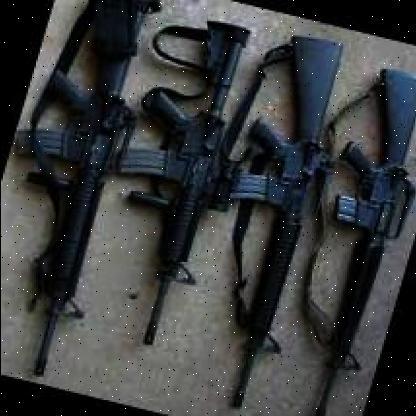rifle: (167, 21, 370, 416), (66, 0, 268, 382), (0, 0, 165, 374), (270, 60, 416, 416)
